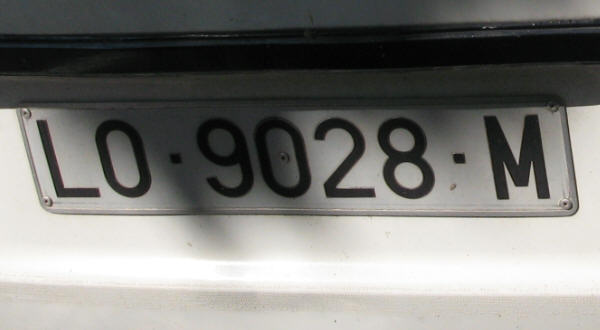license_plate: (13, 97, 581, 214)
